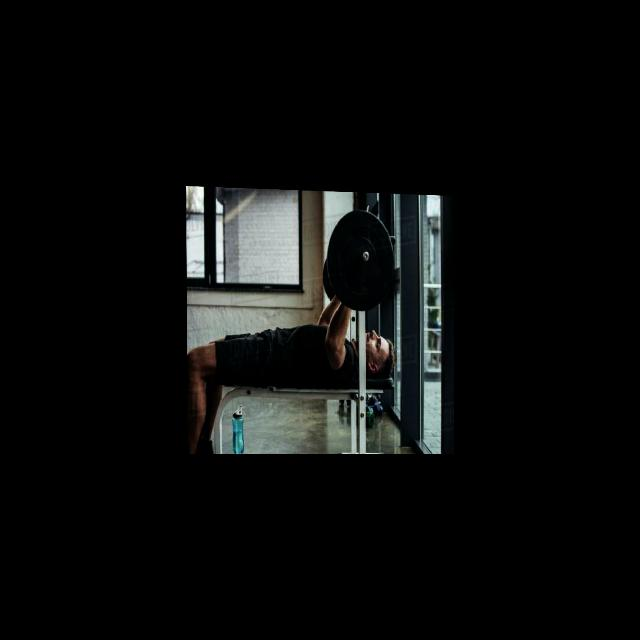barbell: (326, 205, 397, 311)
